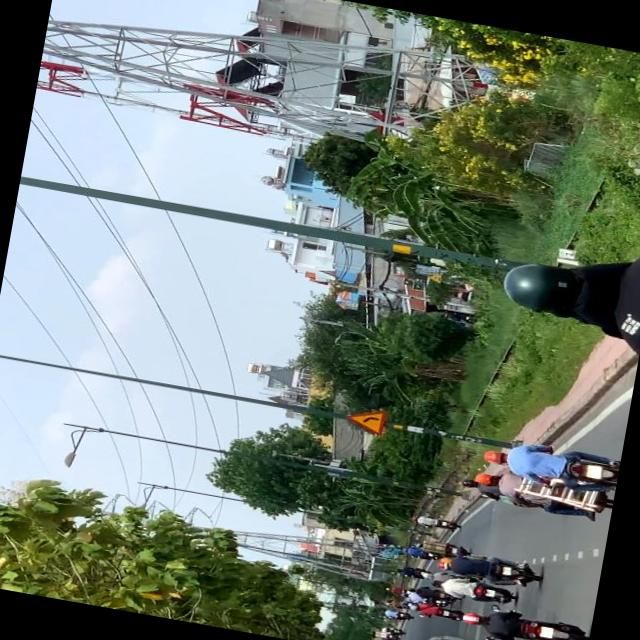W-201a: (345, 405, 386, 434)
